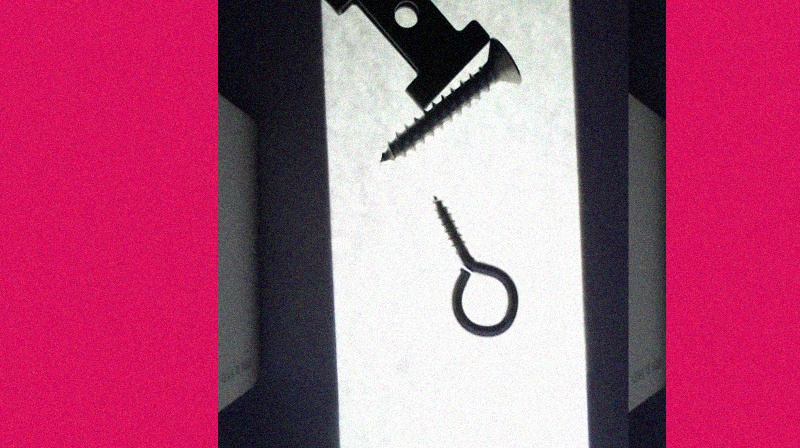O001: (431, 193, 521, 336)
O002: (315, 0, 493, 111)
S001: (378, 33, 524, 162)
